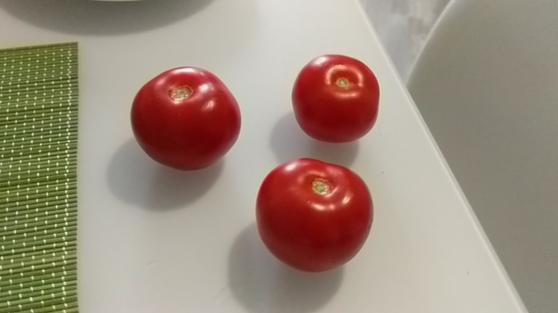tomato: (257, 159, 377, 274), (132, 65, 243, 170), (290, 51, 384, 147)
